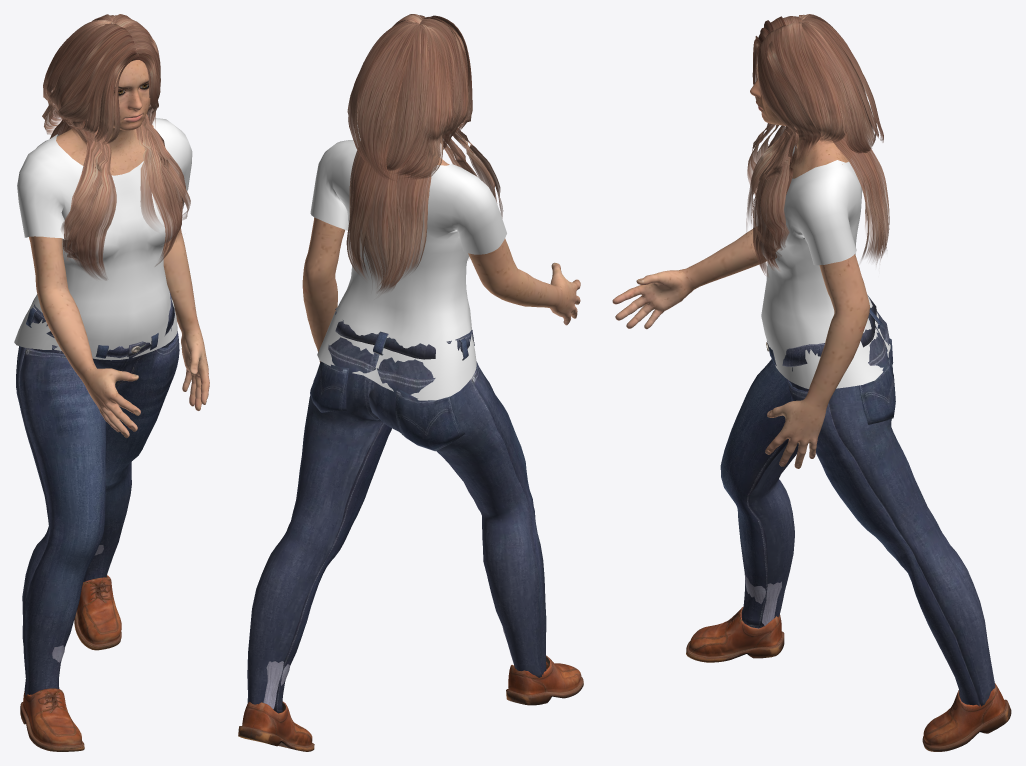
File: donna-05.glb
The picture shows the model from 3 angles, left to right: view 1: azimuth 30°, elevation 25°; view 2: azimuth 150°, elevation 25°; view 3: azimuth 270°, elevation 25°; orthographic projection.
Parts seen in each view (by area): view 1: Human.punkduck_female_tight_jeans, Human.joepal_crude_t-shirt_female, Human.elvs_daisy_hair, Human, Human.shoes01; view 2: Human.punkduck_female_tight_jeans, Human.elvs_daisy_hair, Human.joepal_crude_t-shirt_female, Human, Human.shoes01; view 3: Human.punkduck_female_tight_jeans, Human.elvs_daisy_hair, Human.joepal_crude_t-shirt_female, Human, Human.shoes01.
Boxes of the visible parts, x1,y1,x2,y2 form: Human.punkduck_female_tight_jeans: [16, 290, 179, 695]; Human.joepal_crude_t-shirt_female: [14, 117, 192, 360]; Human.elvs_daisy_hair: [42, 14, 190, 279]; Human: [29, 24, 209, 437]; Human.shoes01: [20, 545, 121, 751]; Human.punkduck_female_tight_jeans: [247, 308, 546, 713]; Human.elvs_daisy_hair: [346, 14, 503, 293]; Human.joepal_crude_t-shirt_female: [310, 139, 506, 400]; Human: [302, 88, 580, 362]; Human.shoes01: [238, 626, 583, 751]; Human.punkduck_female_tight_jeans: [720, 295, 995, 706]; Human.elvs_daisy_hair: [746, 14, 889, 276]; Human.joepal_crude_t-shirt_female: [761, 145, 890, 388]; Human: [612, 64, 869, 468]; Human.shoes01: [686, 573, 1011, 751].
Size of the model in its own units: 0.4982 by 1.55 by 0.805.
13 materials, 13 textured.
